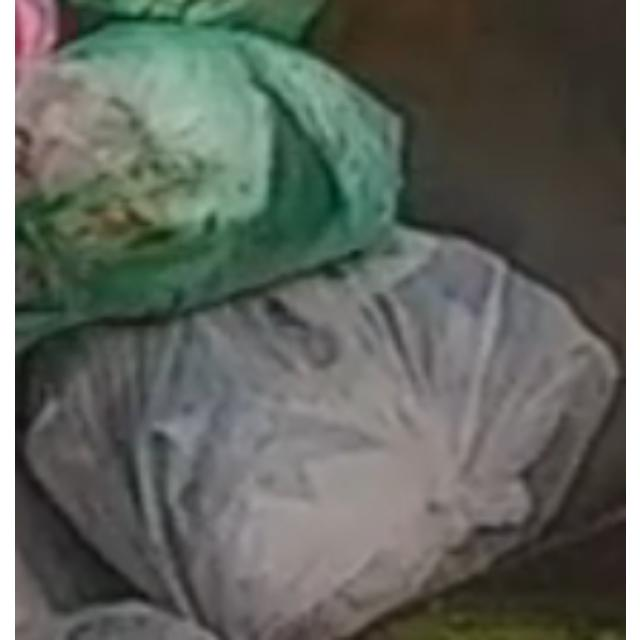general_trashbag: (19, 24, 398, 351)
